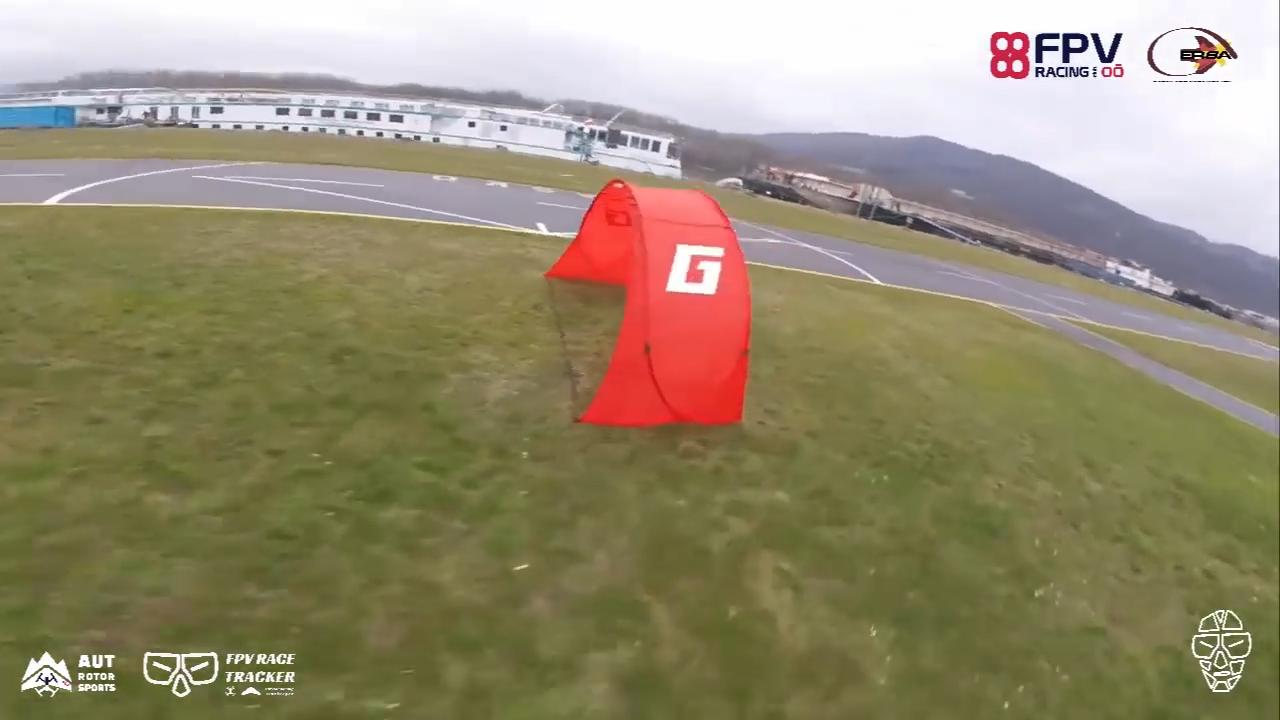gate: (538, 177, 750, 434)
